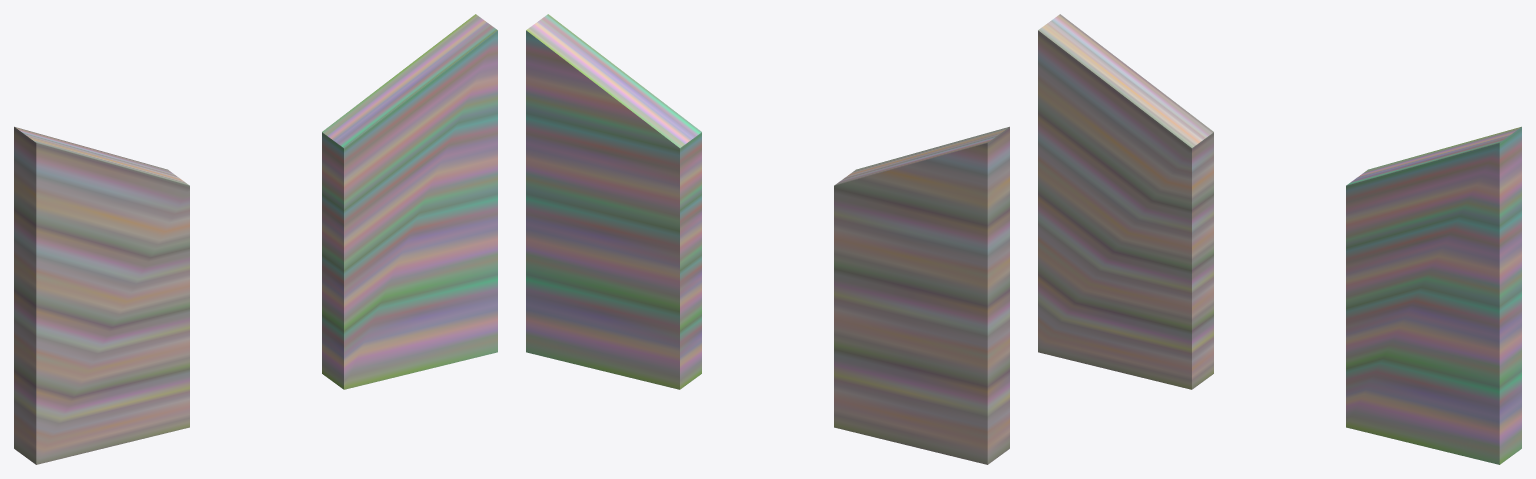
File: construct_eyes_angry.obj
3 views of the same model, side by side, from view 1: azimuth 30°, elevation 25°; view 2: azimuth 150°, elevation 25°; view 3: azimuth 330°, elevation 25° (orthographic).
Visible parts, largest first — view 1: EYES_ANGRY_Cube.033; view 2: EYES_ANGRY_Cube.033; view 3: EYES_ANGRY_Cube.033.
Boxes of the visible parts, left/top/right/bottom form: EYES_ANGRY_Cube.033: left=14, top=14, right=497, bottom=464; EYES_ANGRY_Cube.033: left=526, top=14, right=1009, bottom=464; EYES_ANGRY_Cube.033: left=1038, top=14, right=1521, bottom=464.
Size of the model in its own units: 0.1875 by 0.125 by 0.0156.
